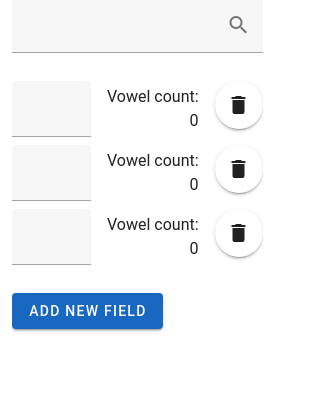
Test case: CustomForm › adds a form field when the "Add new field" button is clicked
Click the button with class "c-form__add-button": coordinates (87, 311) x1=12 y1=293 x2=163 y2=329
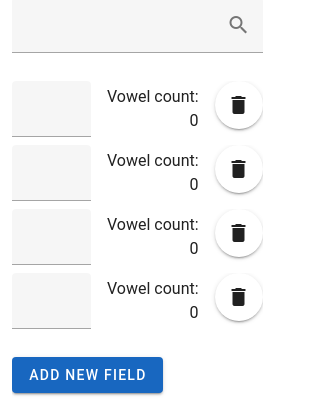
Result: the number of elements with class "c-form__input" is 4 at x1=12 y1=81 x2=91 y2=137; x1=12 y1=145 x2=91 y2=201; x1=12 y1=209 x2=91 y2=265; x1=12 y1=273 x2=91 y2=329
